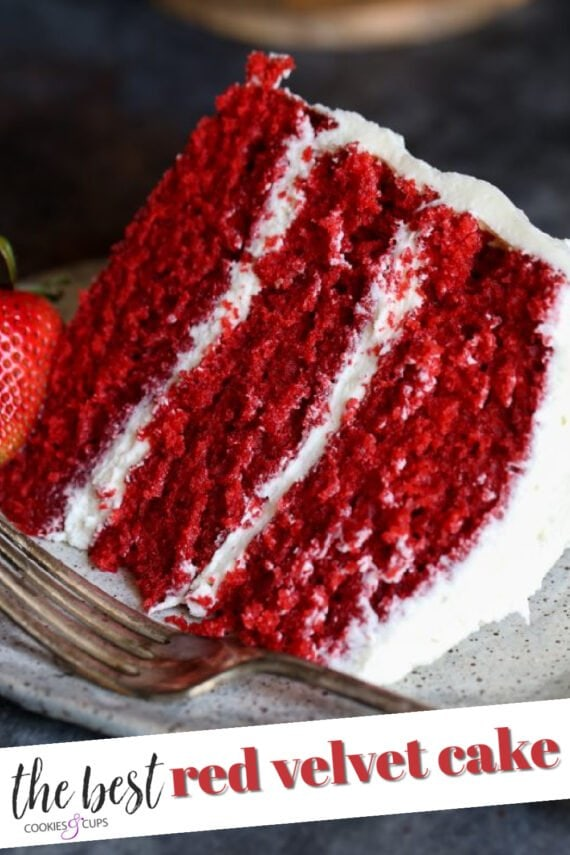red_velvet_cake: (27, 27, 570, 708)
